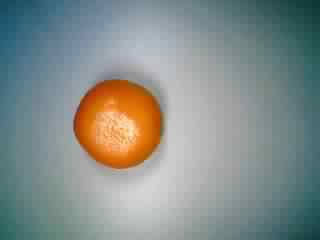orange: (65, 74, 166, 171)
